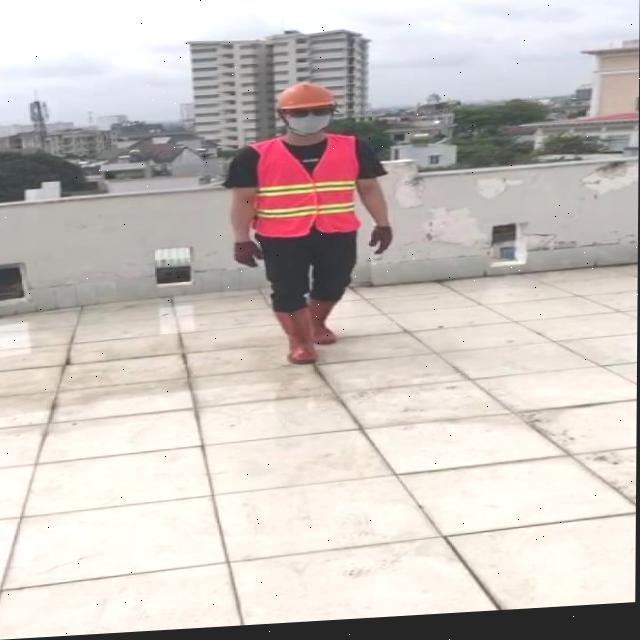Gloves: (233, 242, 263, 272), (368, 229, 393, 259)
Helmet: (275, 84, 337, 141)
Safety-Boot: (275, 309, 318, 368), (306, 299, 337, 349)
Safety-Vest: (247, 135, 361, 244)
